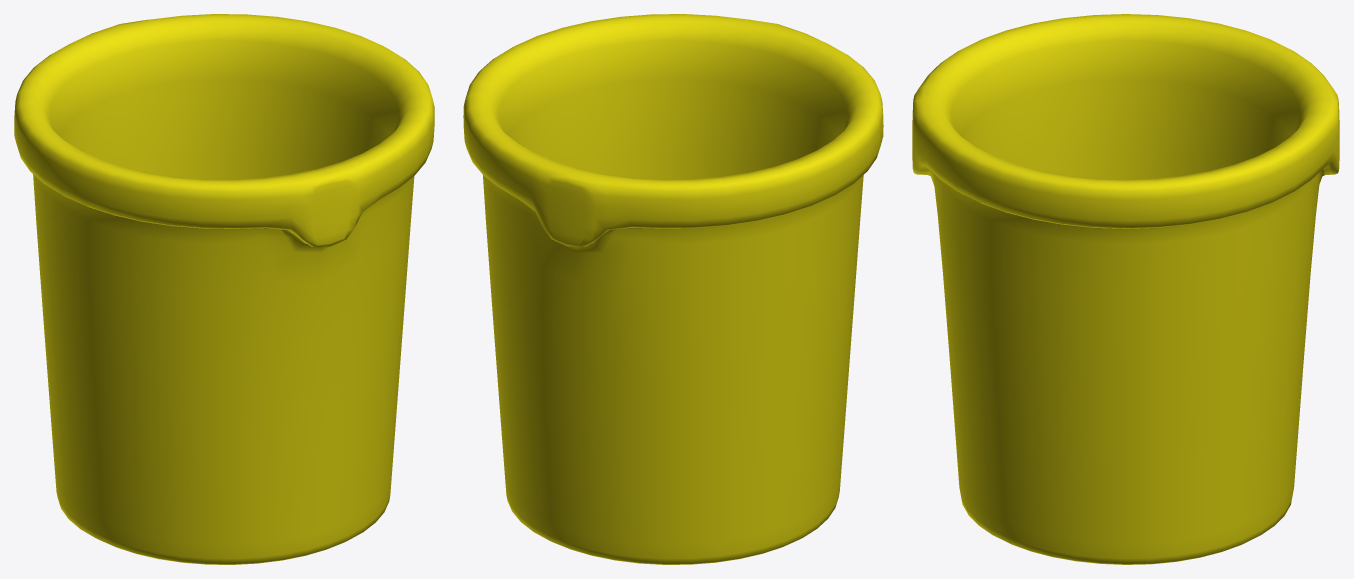
File: bucket.fbx
3 views of the same model, side by side, from view 1: azimuth 30°, elevation 25°; view 2: azimuth 150°, elevation 25°; view 3: azimuth 270°, elevation 25° (orthographic).
Visible parts, largest first — view 1: bucket; view 2: bucket; view 3: bucket.
Part boxes in pixels (<box>): bucket: <box>14,14,434,564</box>; bucket: <box>463,14,883,564</box>; bucket: <box>912,14,1339,564</box>.
Size of the model in its own units: 39.25 by 41 by 39.88.
